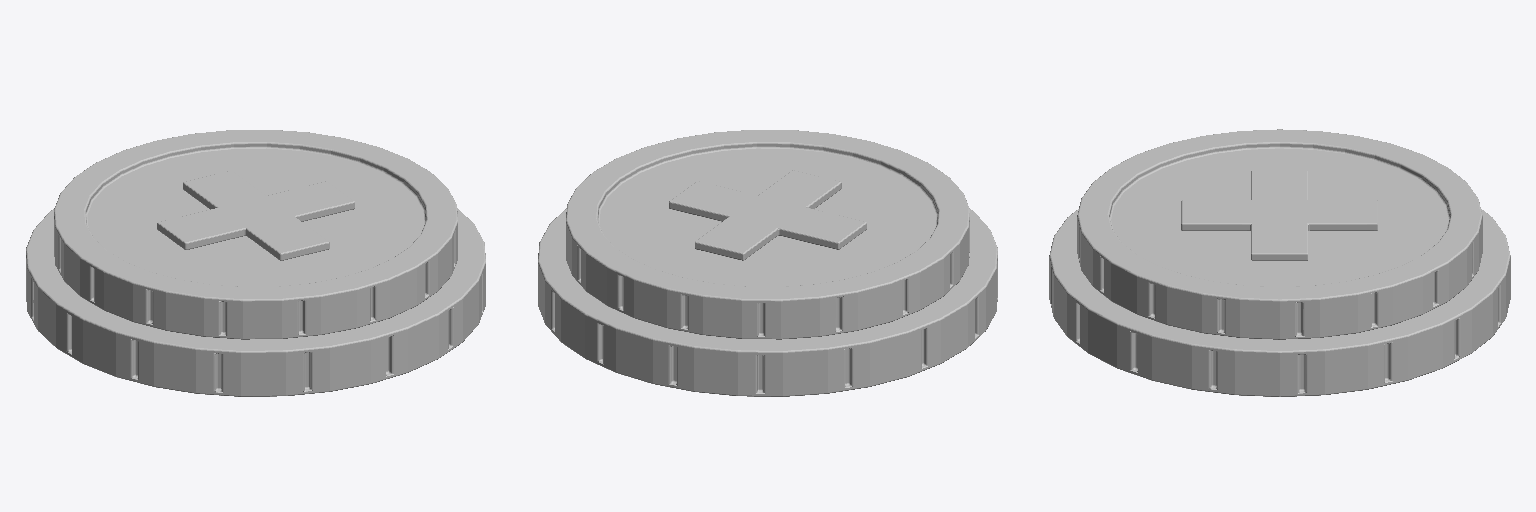
The model's file is PodiumH.obj.
3 views of the same model, side by side, from view 1: azimuth 30°, elevation 25°; view 2: azimuth 150°, elevation 25°; view 3: azimuth 270°, elevation 25° (orthographic).
Visible parts, largest first — view 1: Base.003, Cube; view 2: Base.003, Cube; view 3: Base.003, Cube.
Part boxes in pixels (bbox=[...]): Base.003: bbox=[26, 130, 485, 396]; Cube: bbox=[157, 171, 354, 260]; Base.003: bbox=[538, 130, 997, 396]; Cube: bbox=[669, 170, 866, 260]; Base.003: bbox=[1049, 129, 1510, 396]; Cube: bbox=[1181, 171, 1377, 260].
Size of the model in its own units: 6.37 by 1.35 by 6.37.